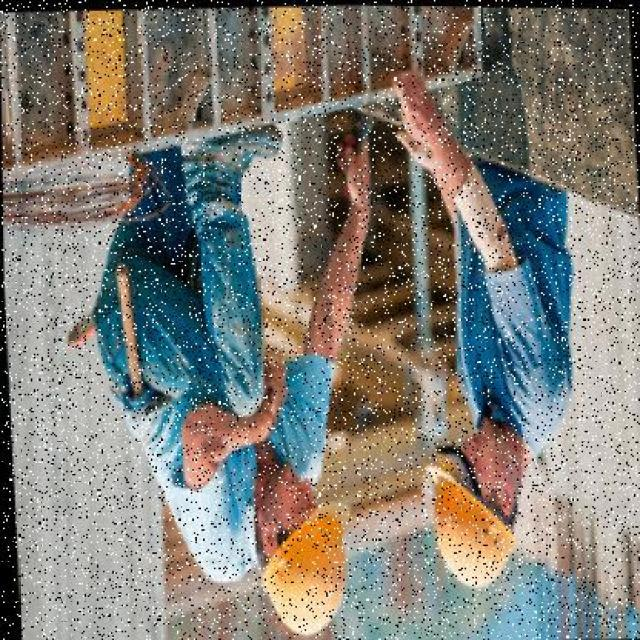helmet: (253, 500, 359, 636), (417, 454, 513, 592)
